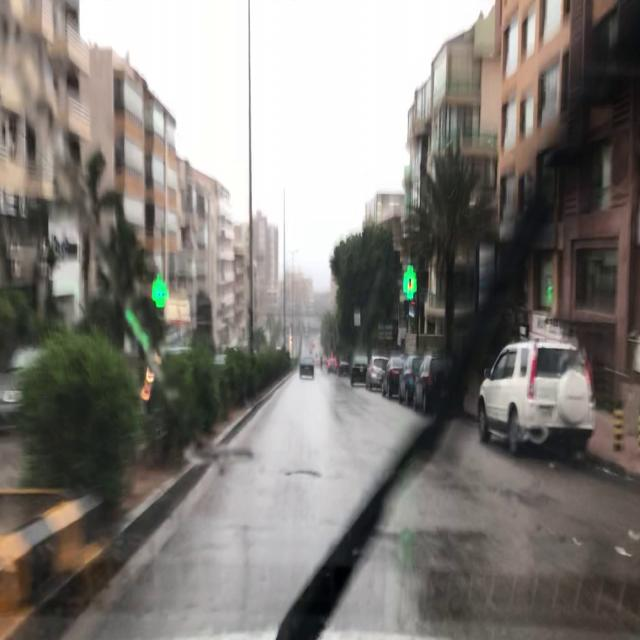Pothole: (284, 469, 324, 480)
